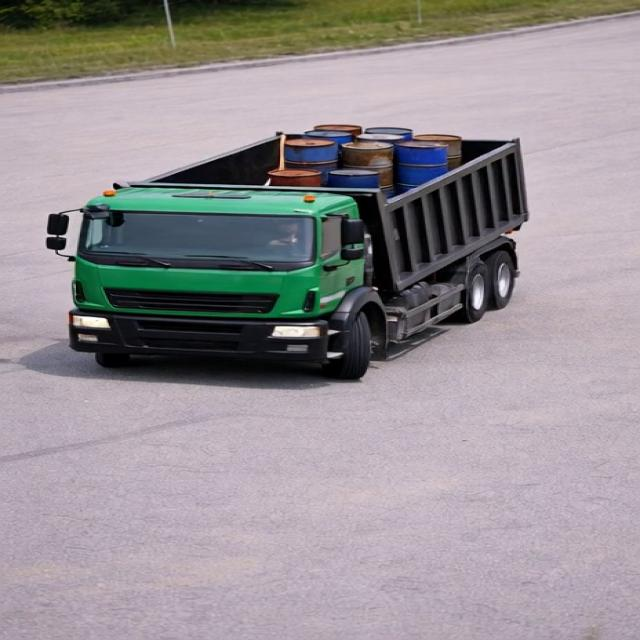trailer: (107, 120, 540, 188)
truck: (44, 93, 568, 364)
